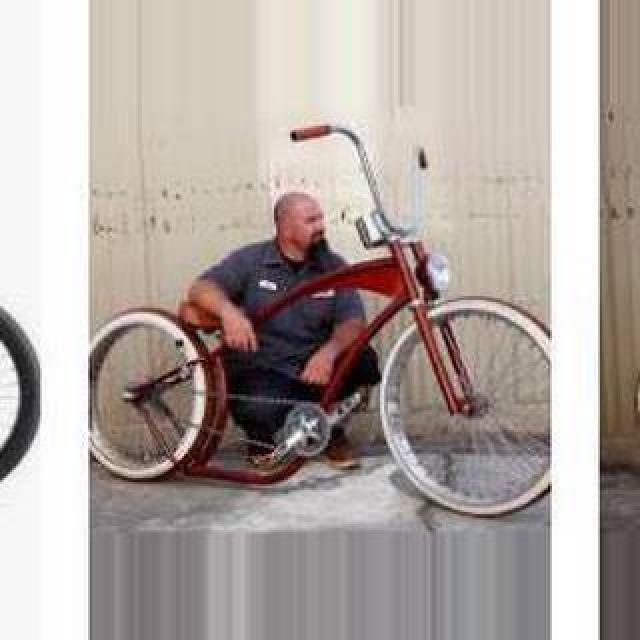MC-Bike: (180, 190, 384, 476)
Person: (90, 122, 552, 522)
